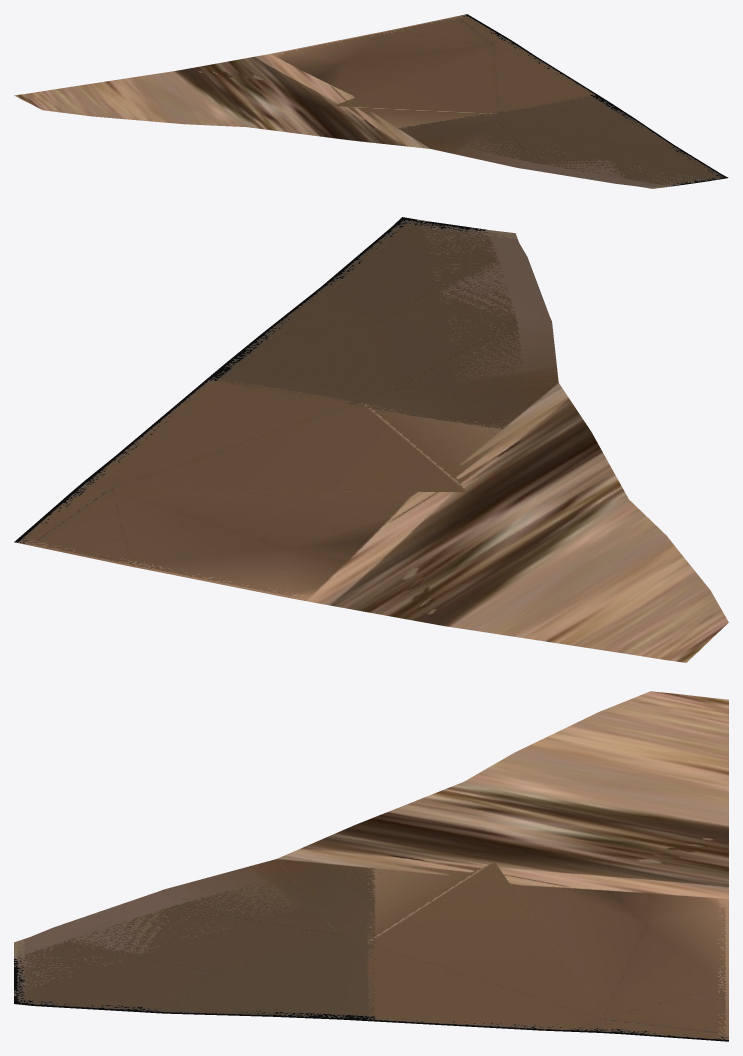
3 views of the same model, one above another, from view 1: azimuth 30°, elevation 25°; view 2: azimuth 150°, elevation 25°; view 3: azimuth 270°, elevation 25° (orthographic). The views are drawn at different scales.
Size of the model in its own units: 2.09 by 0.1559 by 2.09.
Materials: 2 (2 with a texture image).
